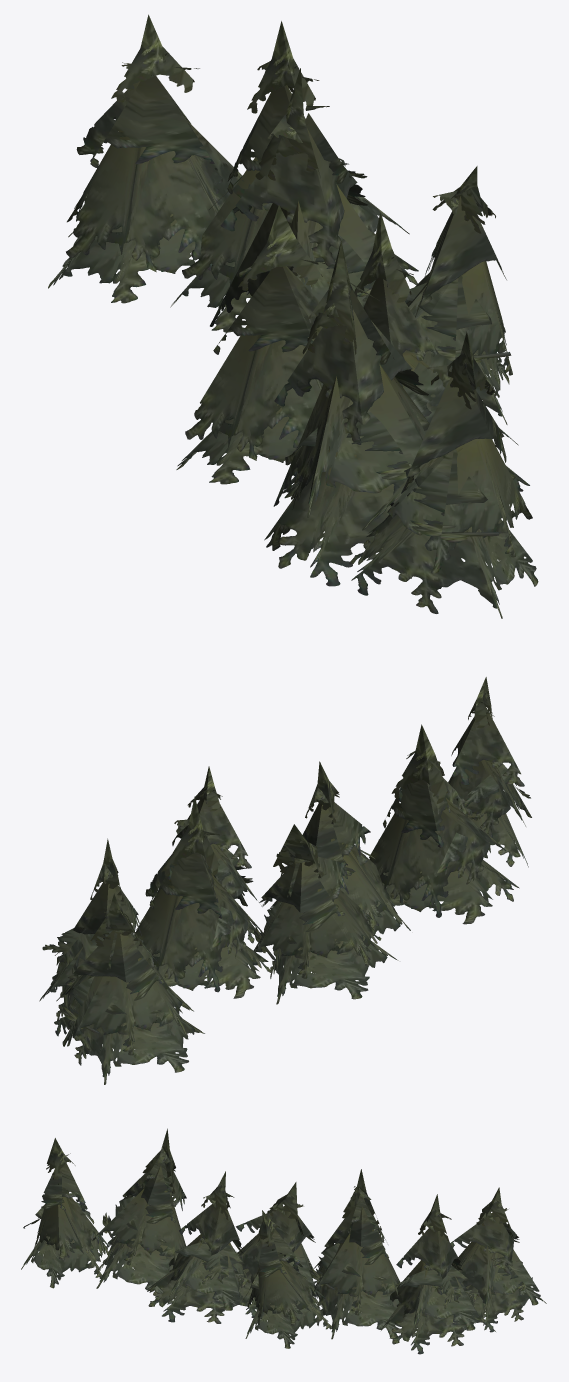
3 renders of one model, top to bottom at view 1: azimuth 30°, elevation 25°; view 2: azimuth 150°, elevation 25°; view 3: azimuth 270°, elevation 25°, orthographic. The views are drawn at different scales.
Parts seen in each view (by area): view 1: body0_model0_lod0_mesh0; view 2: body0_model0_lod0_mesh0; view 3: body0_model0_lod0_mesh0.
Boxes of the visible parts, <box> form: body0_model0_lod0_mesh0: <box>48,14,538,618</box>; body0_model0_lod0_mesh0: <box>39,677,531,1084</box>; body0_model0_lod0_mesh0: <box>21,1128,546,1354</box>.
Size of the model in its own units: 638 by 450 by 1294.
1 material, 1 textured.
